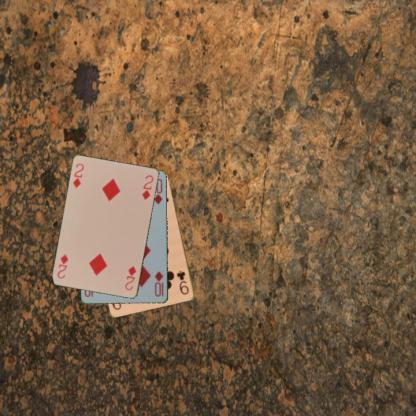10d: (152, 268, 164, 298)
2d: (122, 263, 138, 292), (70, 160, 85, 190)
9c: (174, 268, 190, 296)
